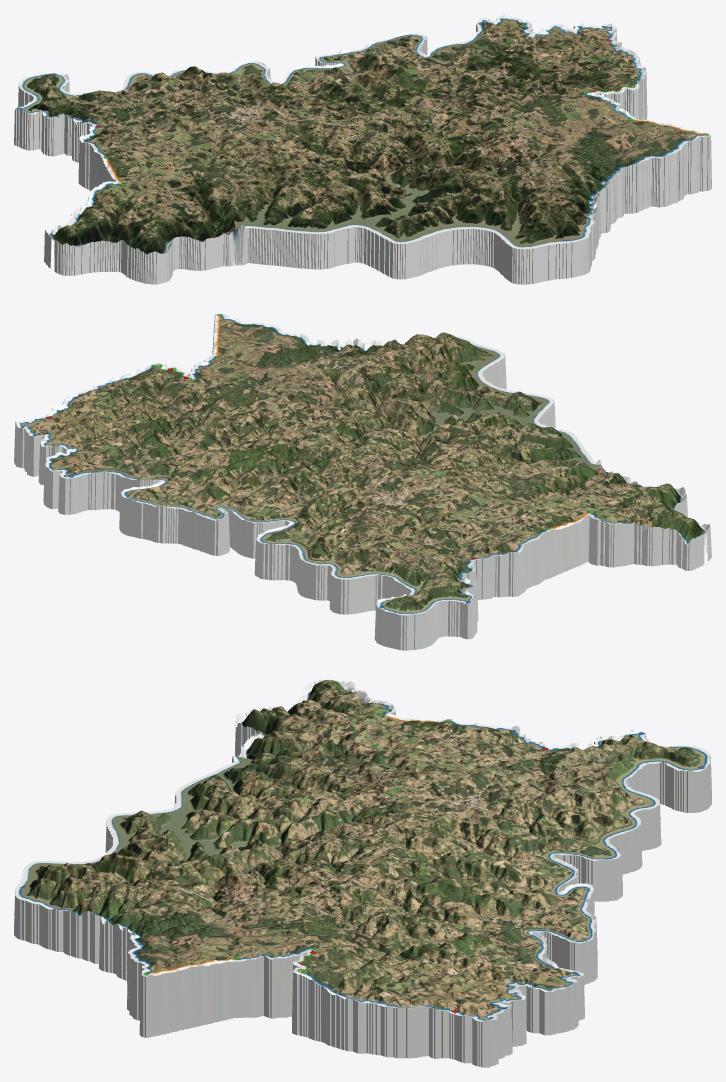
3 views of the same model, one above another, from view 1: azimuth 30°, elevation 25°; view 2: azimuth 150°, elevation 25°; view 3: azimuth 270°, elevation 25° (orthographic). The views are drawn at different scales.
Bounding box in the file's own units: 1 × 0.0838 × 0.839.
Materials: 1 (1 with a texture image).
